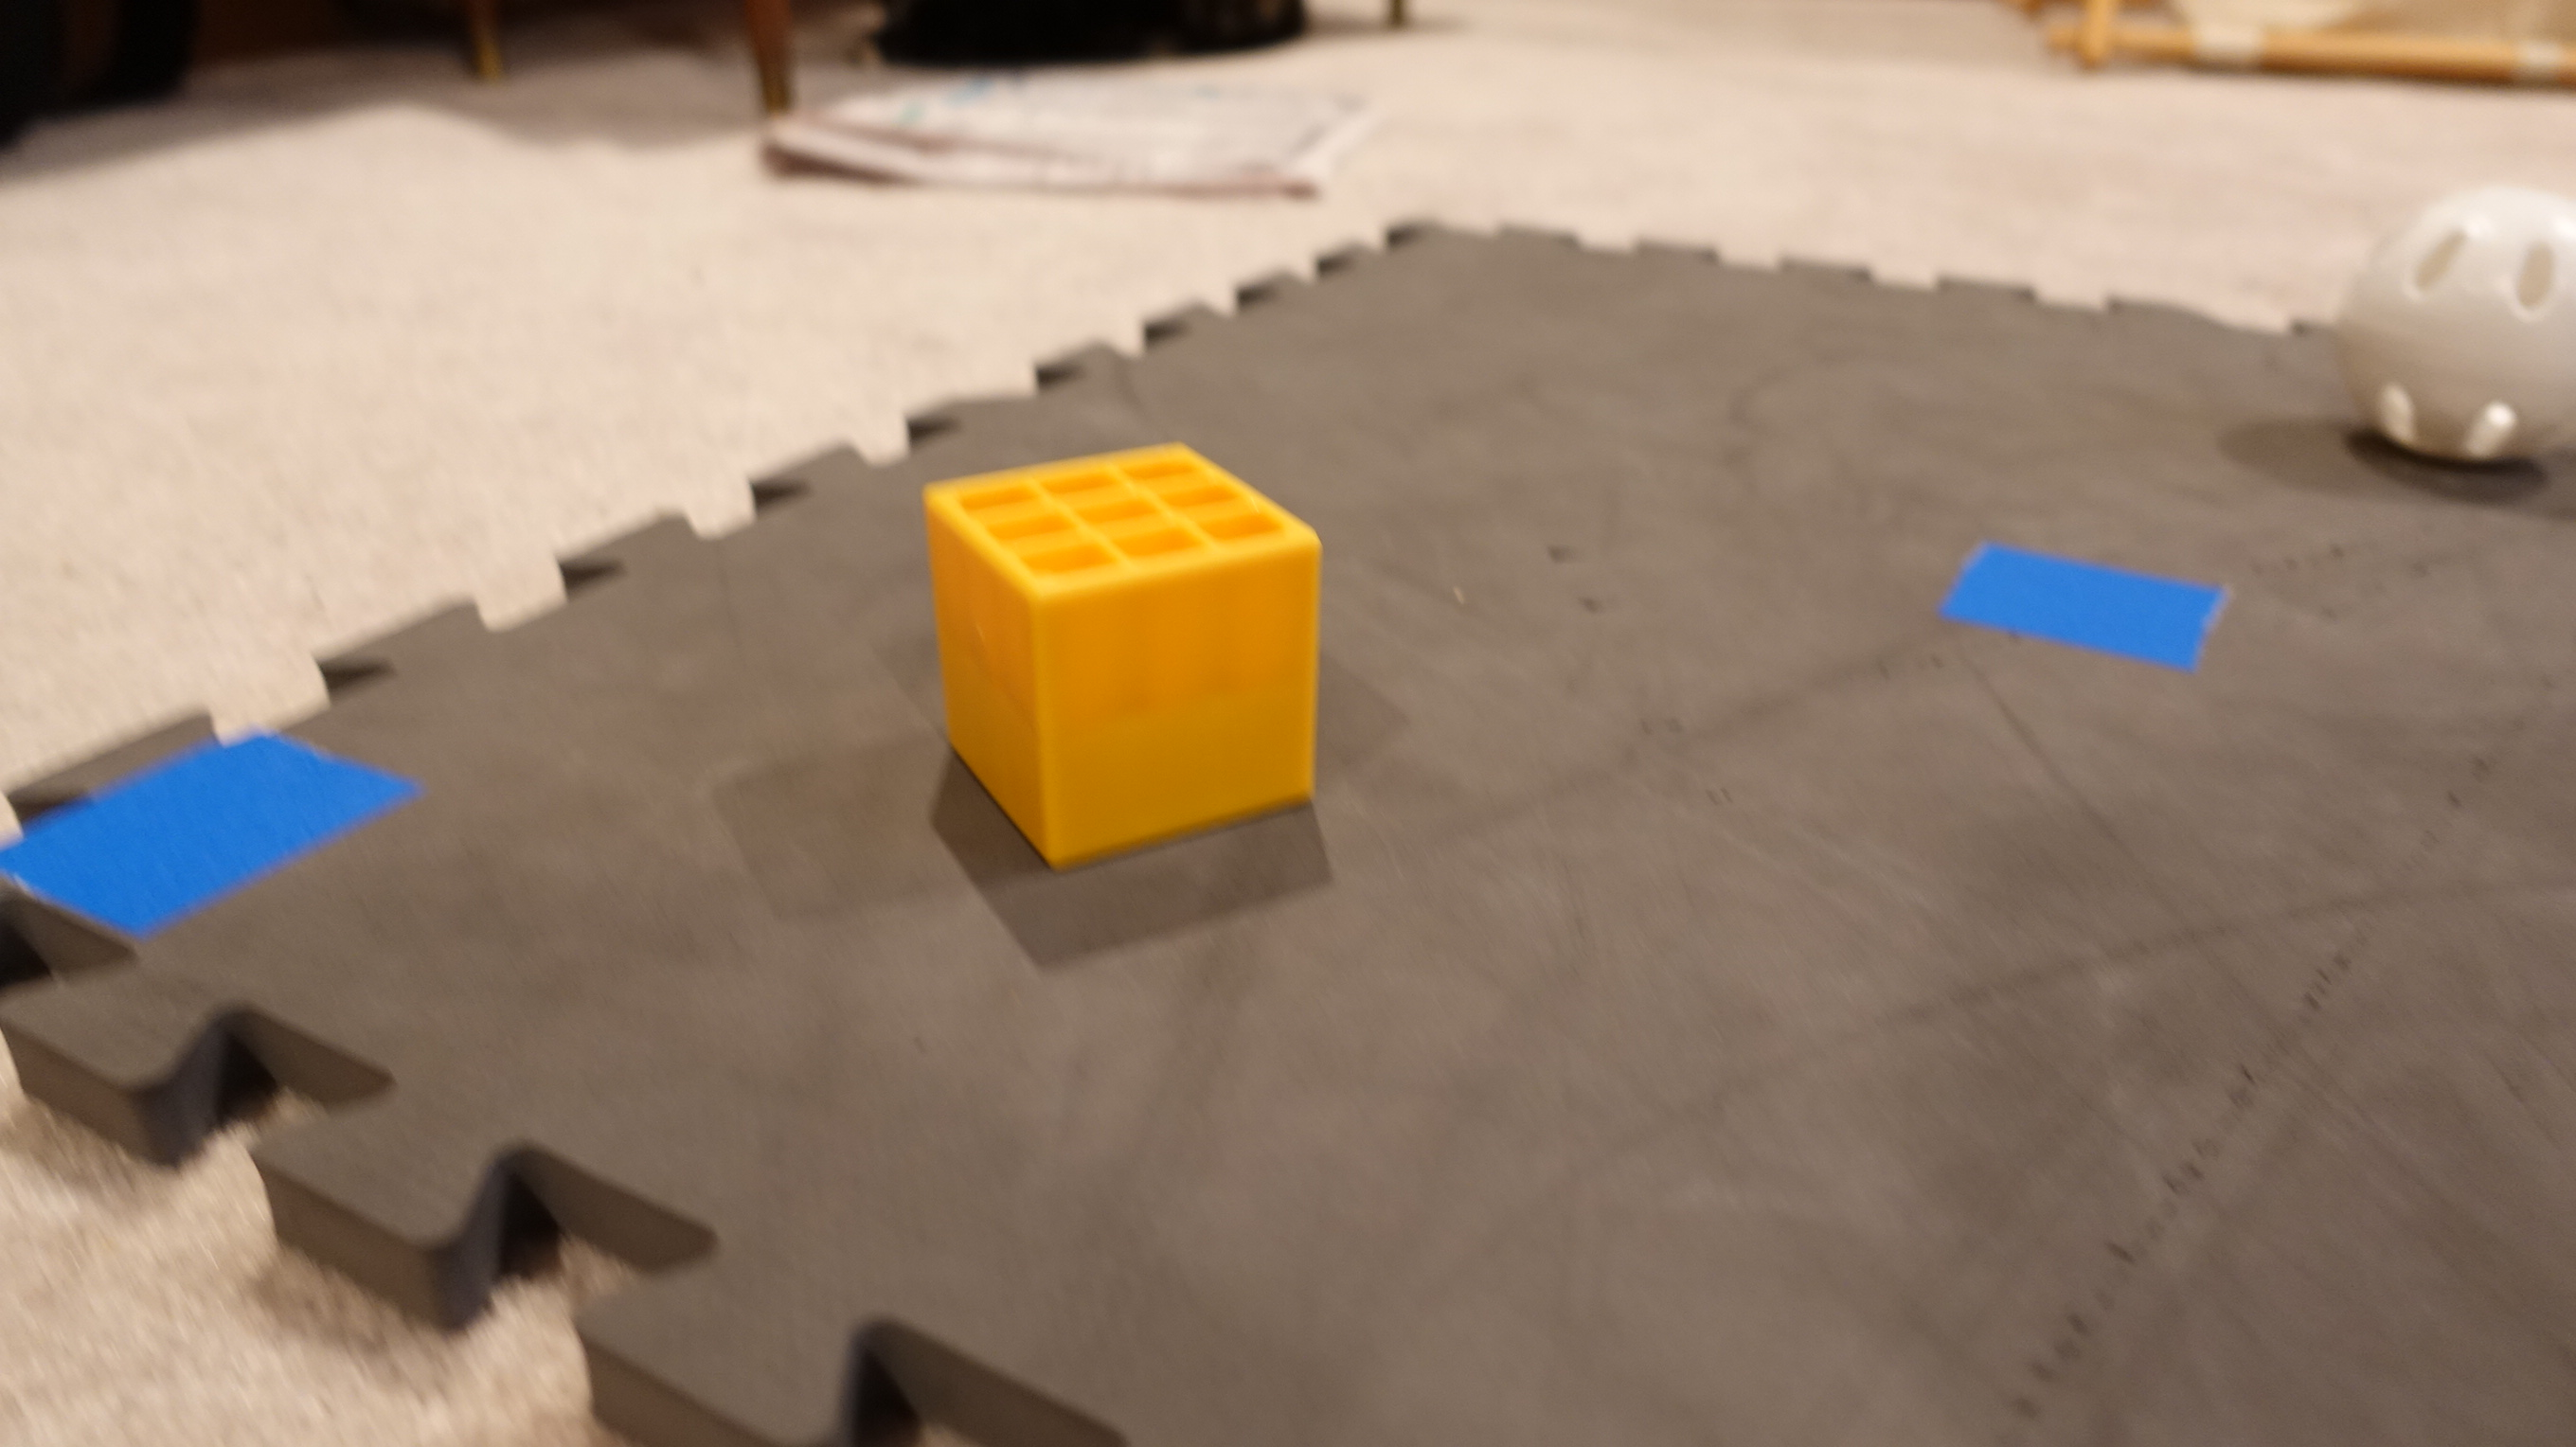gold: (913, 414, 1334, 870)
silver: (2339, 182, 2576, 467)
